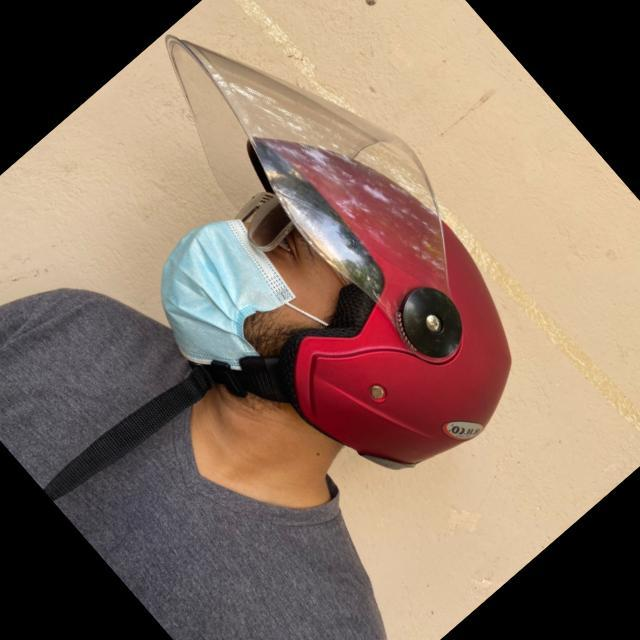WITH_HELMET: (12, 0, 601, 552)
